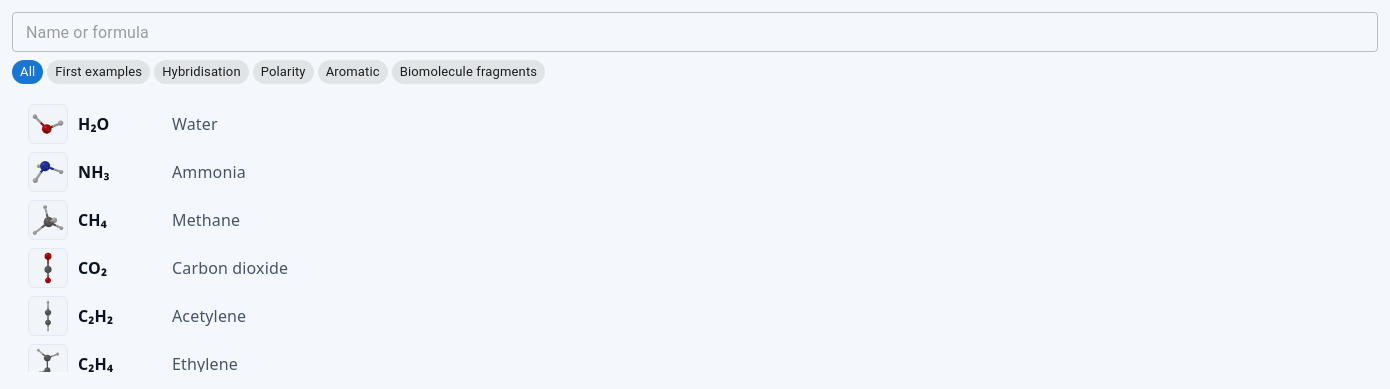
Test: MoleculePicker › picks the first match on Enter and says when nothing matches
Type "benz" into the field named "filter molecules" at (695, 32), box [12, 12, 1378, 52]
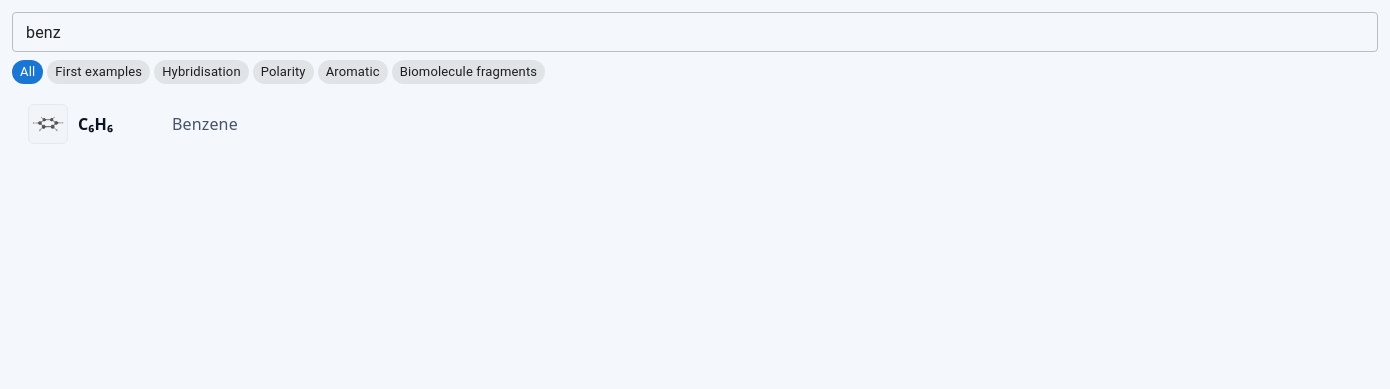
Press Enter in the field named "filter molecules", box [12, 12, 1378, 52]
Replace the text in the field named "filter molecules" with "xenon" at (695, 32), box [12, 12, 1378, 52]
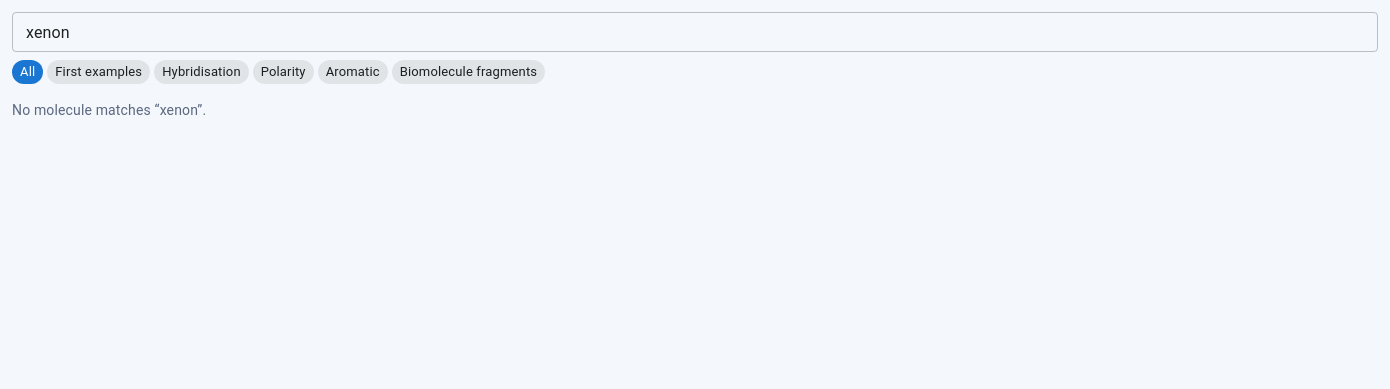
Expected: the text "No molecule matches “xenon”." is shown, [12, 102, 206, 118]
